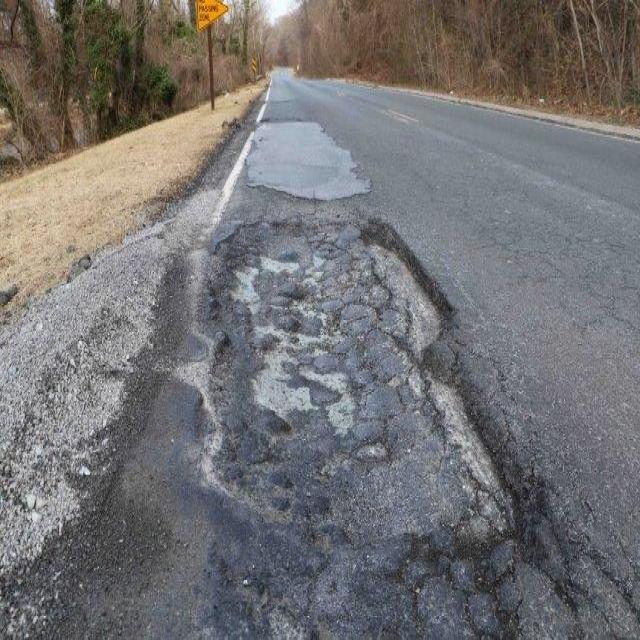jalan retak: (453, 175, 640, 336), (557, 451, 640, 640), (240, 170, 371, 212), (250, 106, 320, 132)
lubang: (171, 197, 583, 640)
